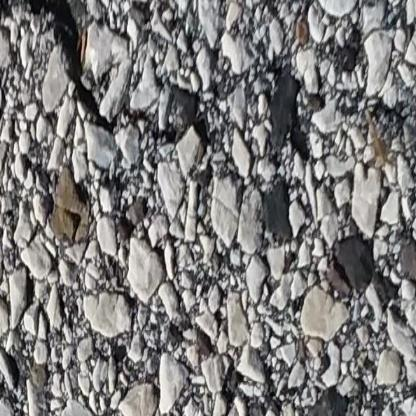Cracks: (0, 0, 144, 128)
